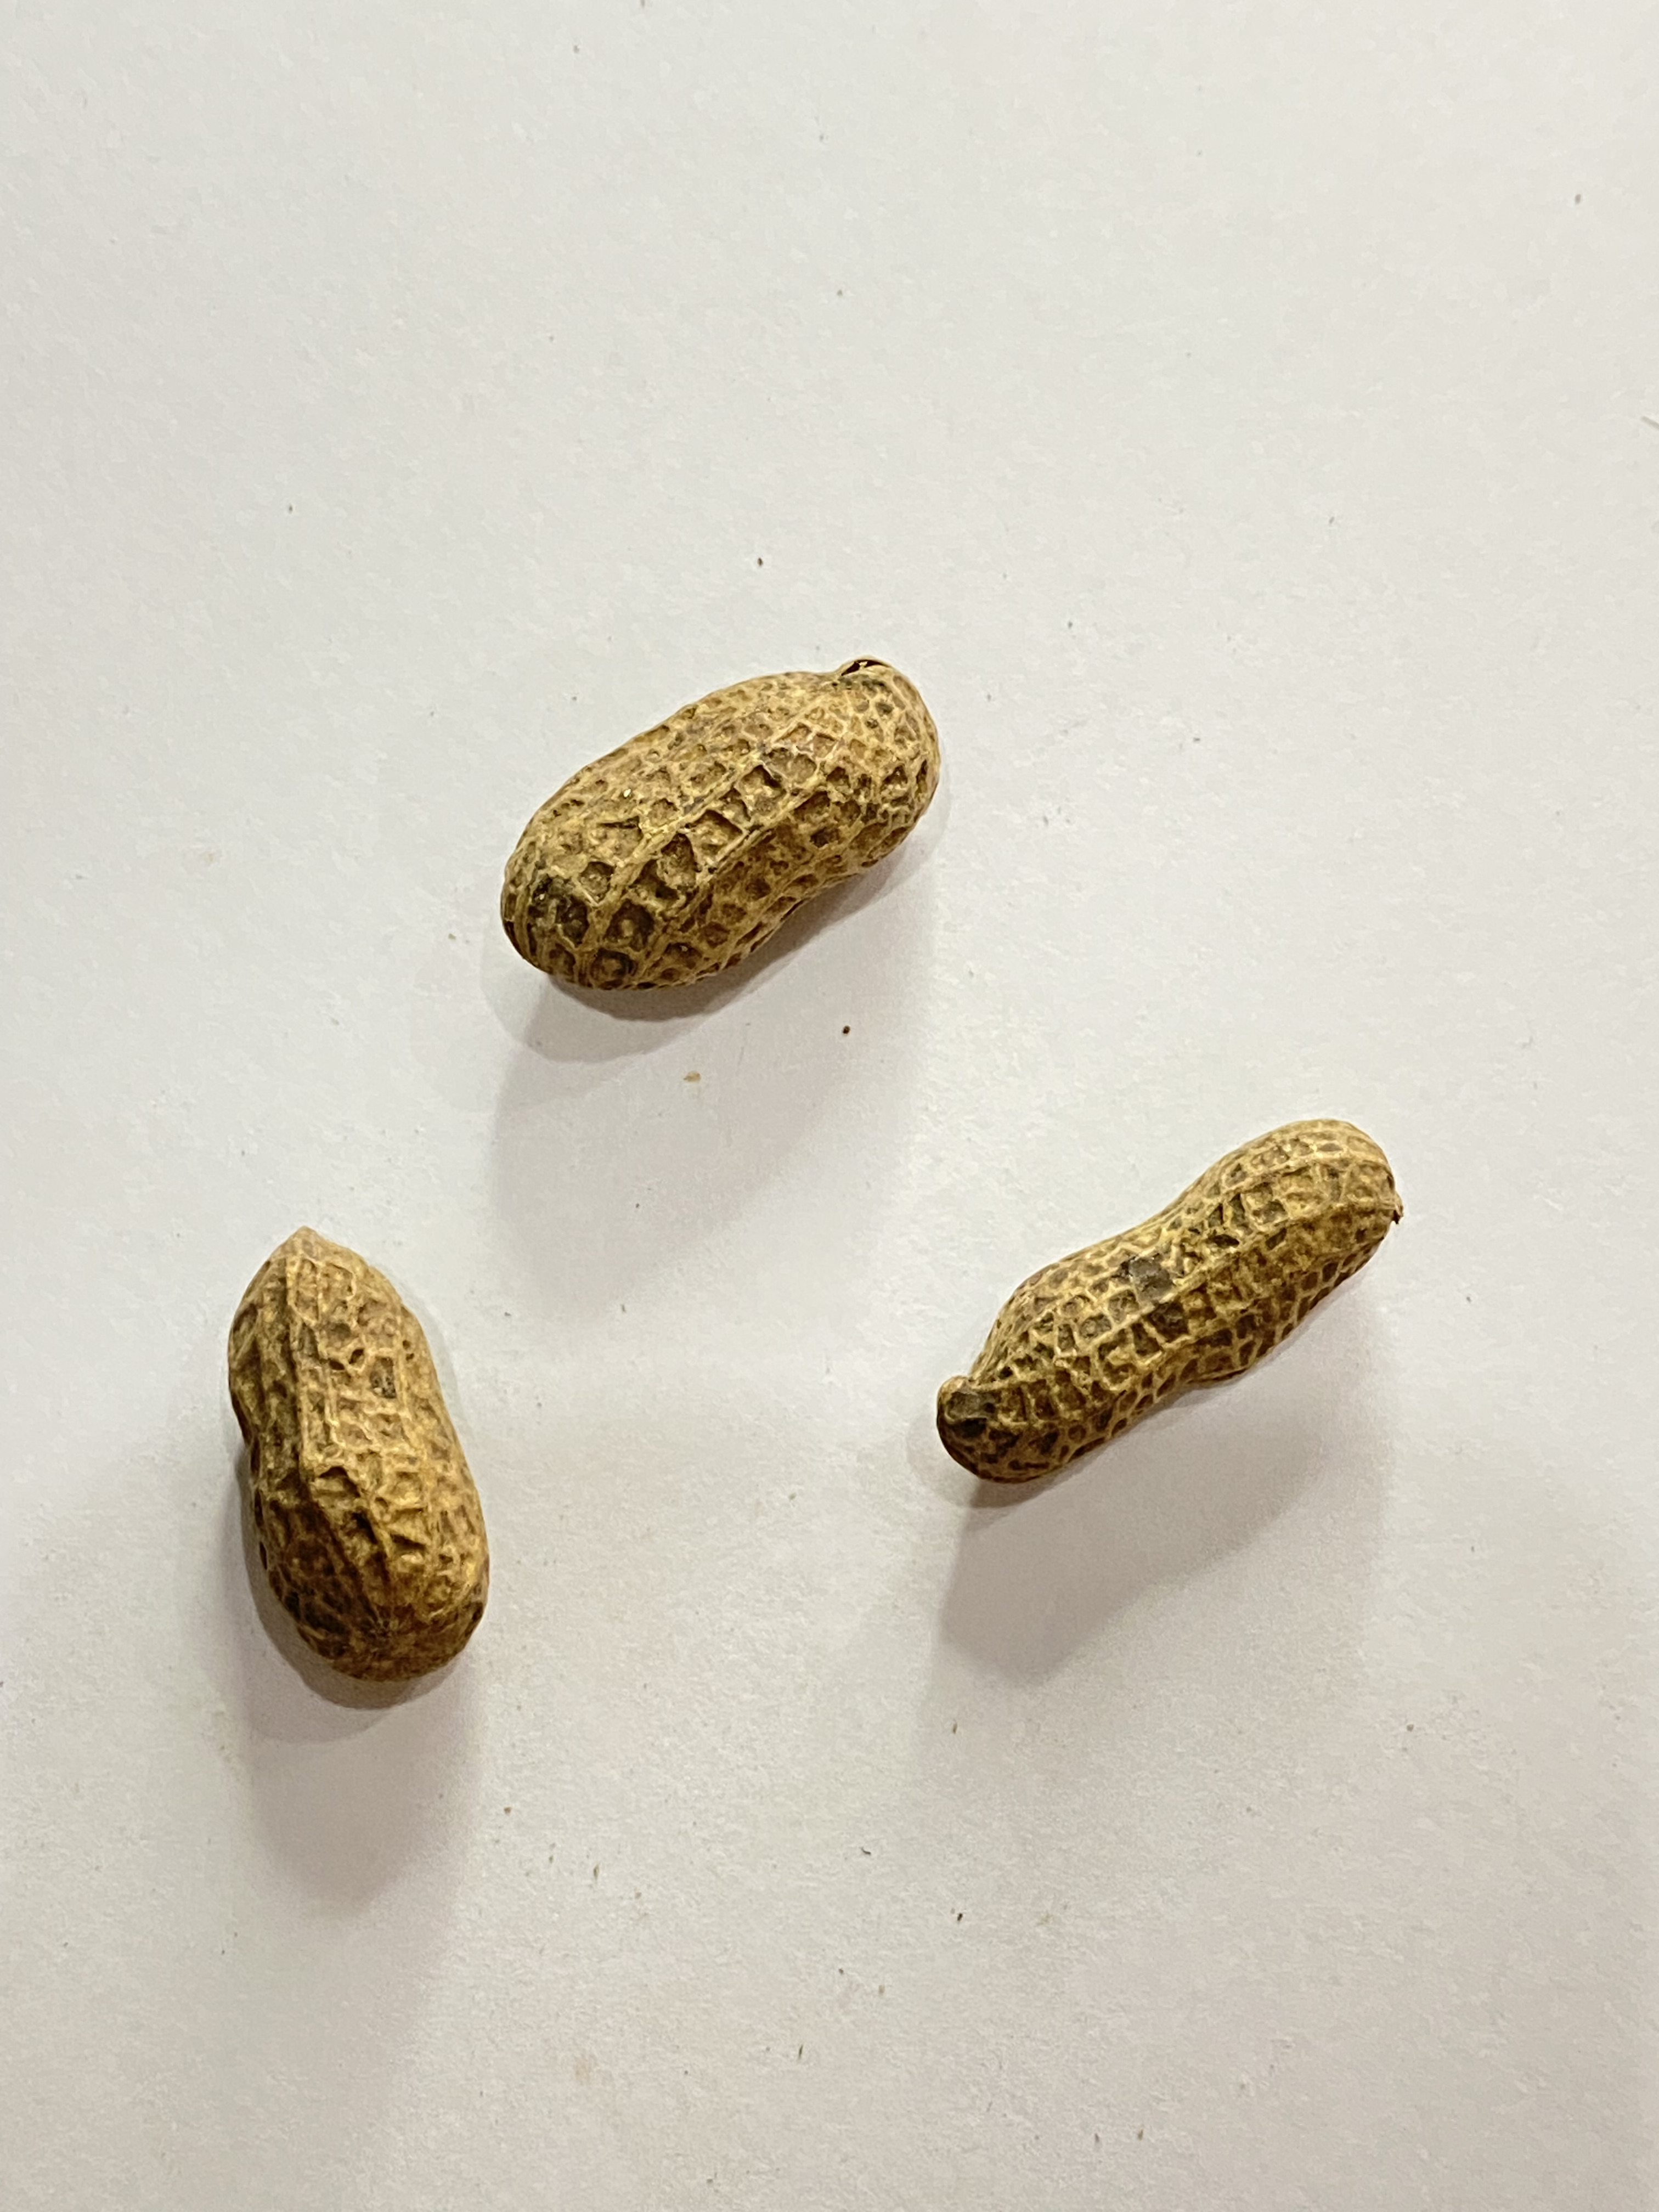kacang2: (471, 596, 1006, 1035), (892, 1089, 1413, 1531), (179, 1226, 552, 1693)
